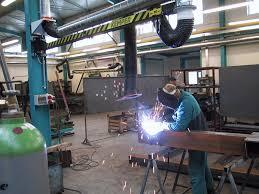controlled_fire: (130, 116, 186, 137)
